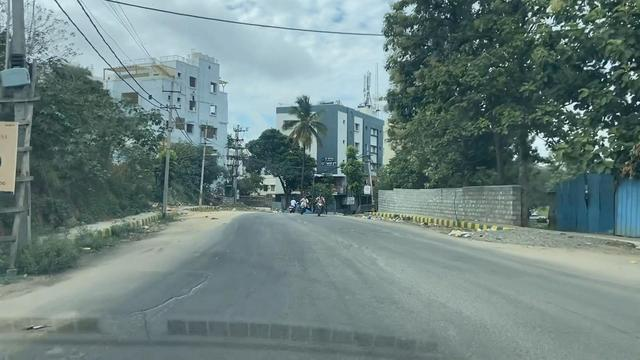LMV: (313, 188, 335, 222)
